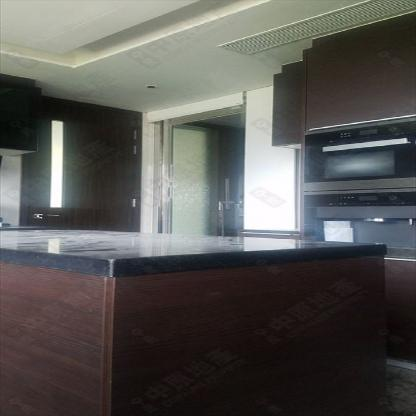Cupboard: (0, 225, 391, 415)
Oven: (300, 118, 415, 259)
